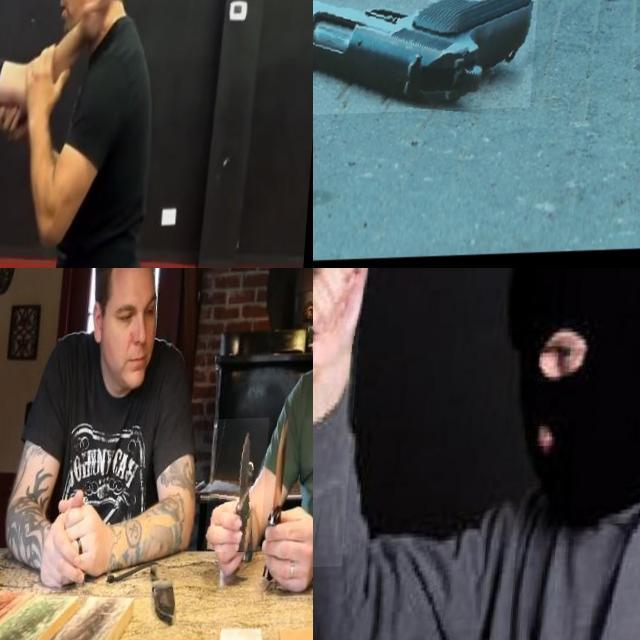-: (313, 268, 404, 573), (210, 420, 274, 555), (271, 404, 313, 553)
gun-knife-thesis - v11 Yolov5 augmented: (313, 0, 545, 120)
